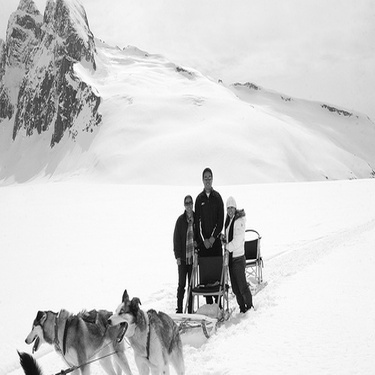dog: (16, 290, 137, 372), (100, 279, 190, 372), (10, 336, 52, 372)
